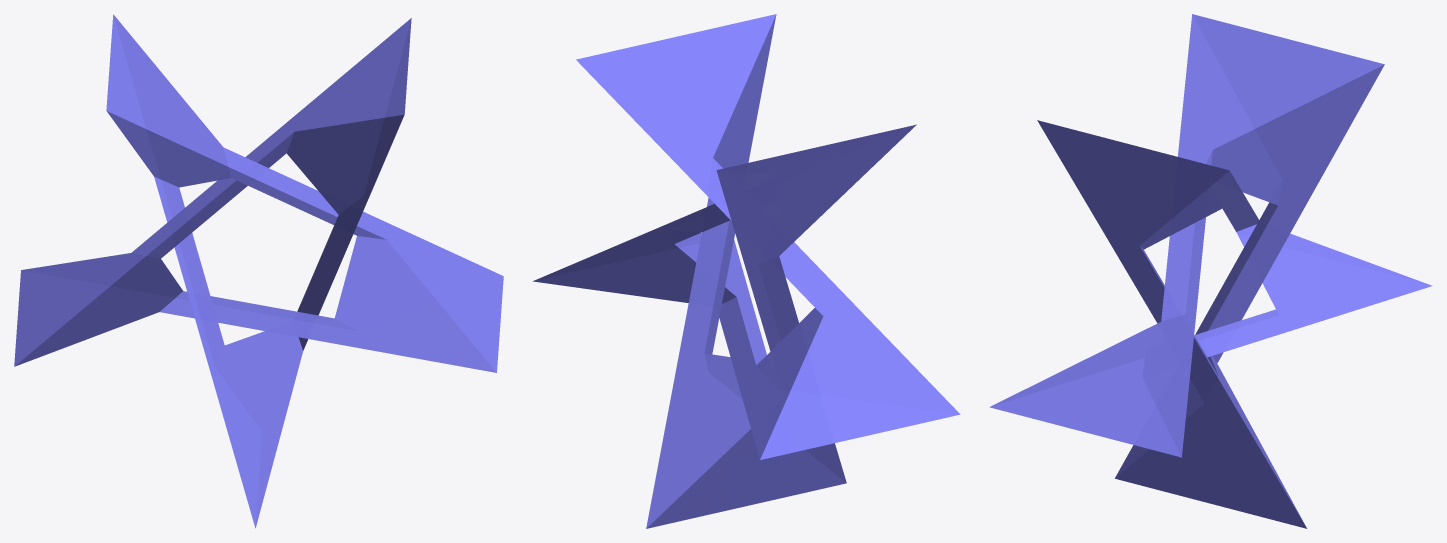
File: HexagonalToroid_S.obj
3 renders of one model, left to right at view 1: azimuth 30°, elevation 25°; view 2: azimuth 150°, elevation 25°; view 3: azimuth 270°, elevation 25°, orthographic.
Size of the model in its own units: 15.7 by 13.57 by 13.26.
